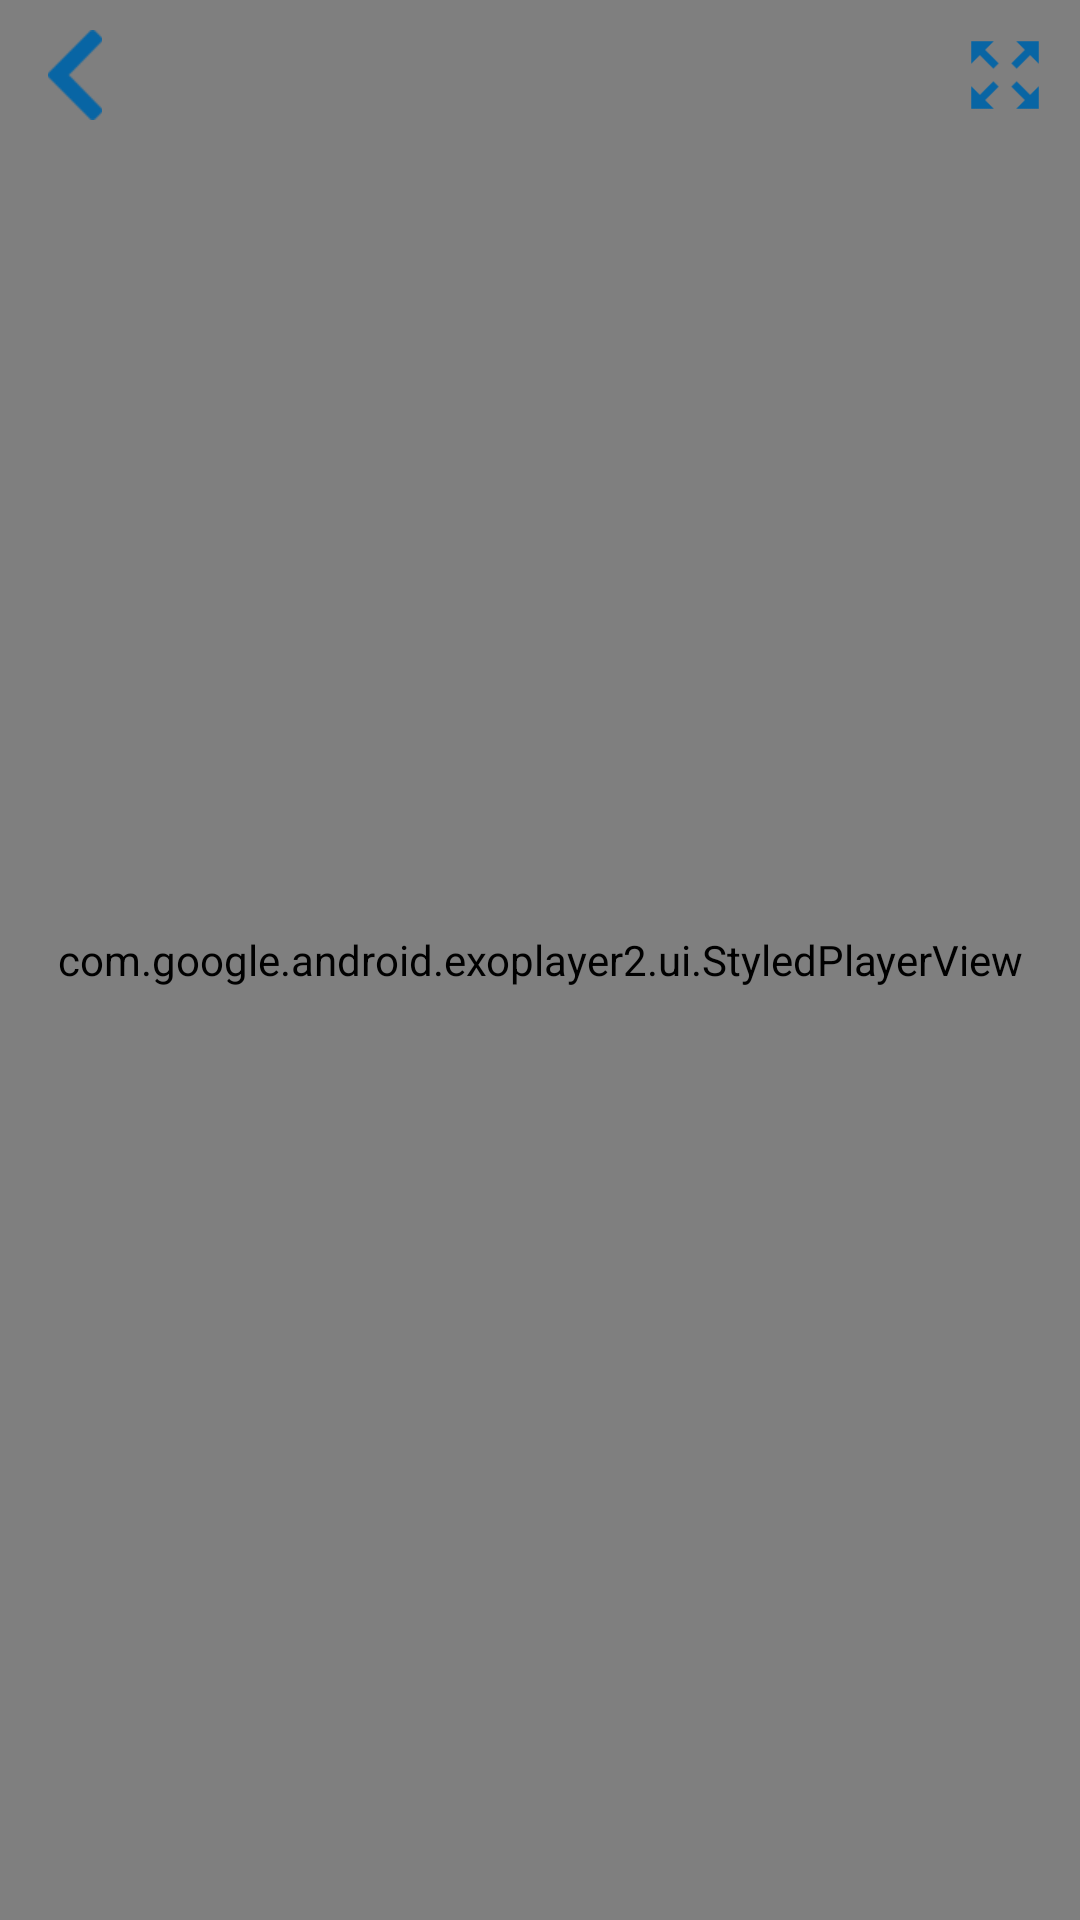

Icons on this 1080 x 1920 Android screen, each with the point to tap as (x,y):
back: (75,75)
expand: (1005,75)
